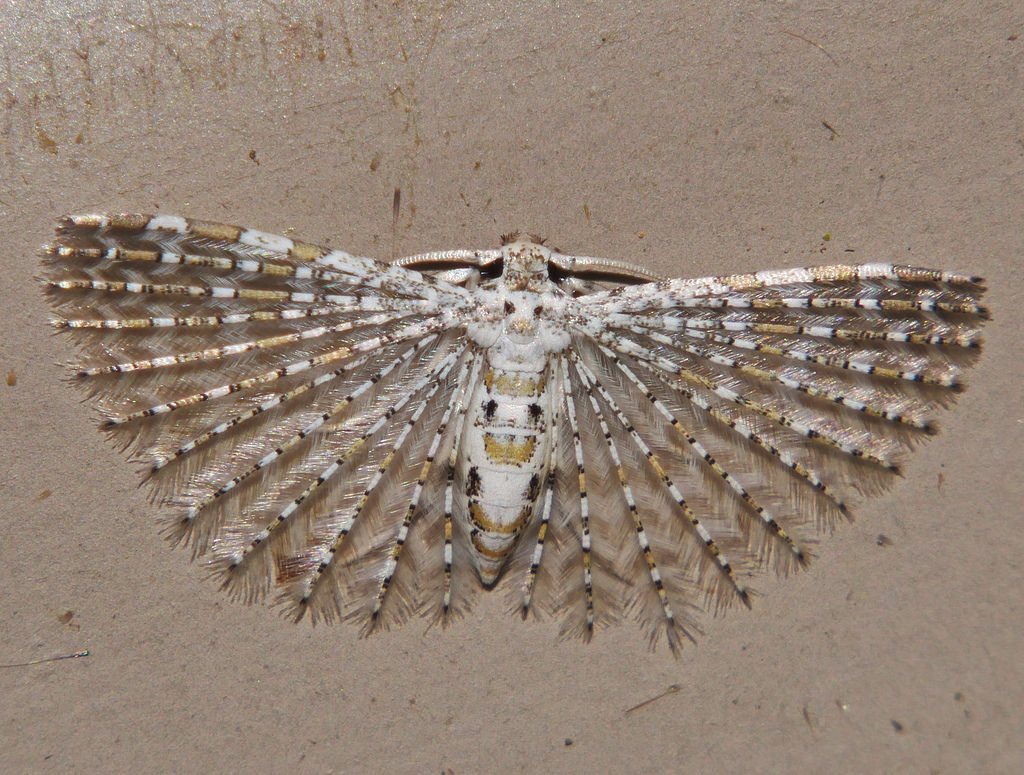Alucitidae: (29, 199, 1000, 659)
moth: (31, 201, 1002, 661)
